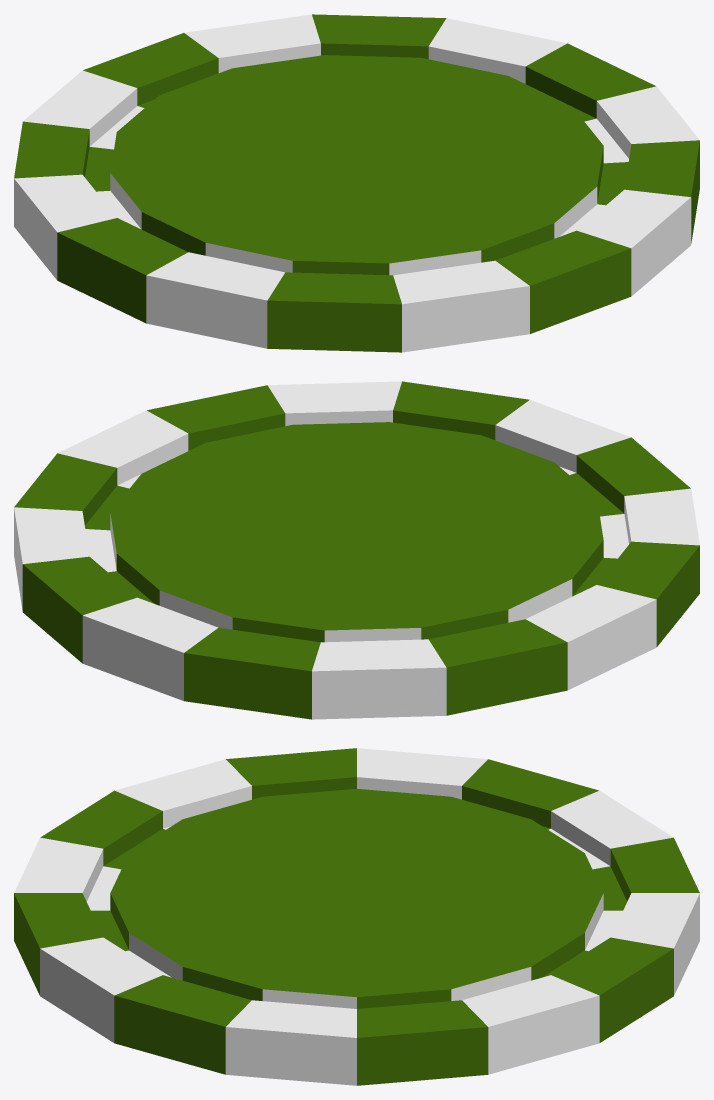
The model's file is GreenChip.fbx.
The picture shows the model from 3 angles, top to bottom: view 1: azimuth 30°, elevation 25°; view 2: azimuth 150°, elevation 25°; view 3: azimuth 270°, elevation 25°; orthographic projection.
Parts seen in each view (by area): view 1: Chip.001; view 2: Chip.001; view 3: Chip.001.
Part boxes in pixels (x1,y1,x2,y2): Chip.001: [14, 14, 699, 352]; Chip.001: [14, 381, 699, 719]; Chip.001: [14, 748, 699, 1085].
Size of the model in its own units: 39 by 3.01 by 39.
